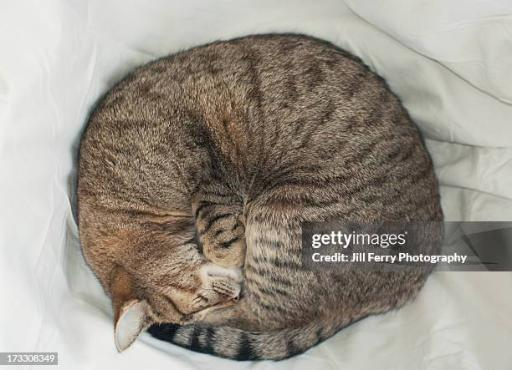cat_sleeping: (77, 34, 442, 359), (250, 149, 251, 151)
